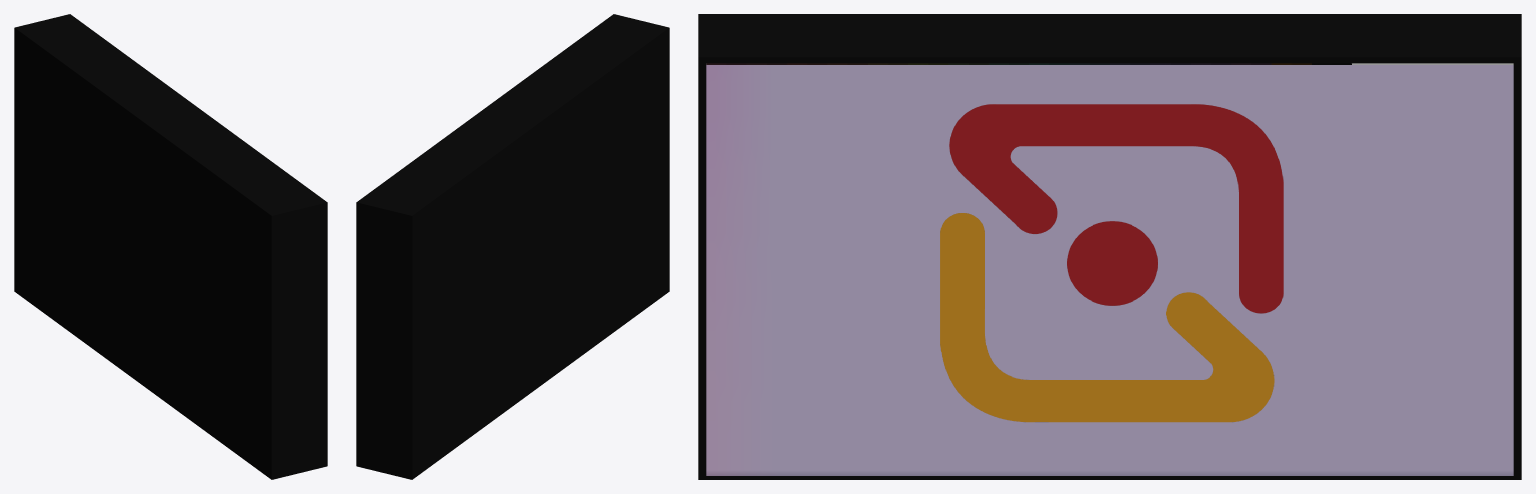
3 views of the same model, side by side, from view 1: azimuth 30°, elevation 25°; view 2: azimuth 150°, elevation 25°; view 3: azimuth 270°, elevation 25° (orthographic). The views are drawn at different scales.
Visible parts, largest first — view 1: Cube.001; view 2: Cube.001; view 3: LED.001, avo-logo.001, Cube.001.
Boxes of the visible parts, box(x1,y1,x2,y2) form: Cube.001: box(14, 14, 327, 479); Cube.001: box(356, 14, 669, 479); LED.001: box(706, 65, 1513, 475); avo-logo.001: box(940, 104, 1283, 422); Cube.001: box(698, 14, 1521, 479).
Bounding box in the file's own units: 1.04 × 4.53 × 8.
Materials: 2 (2 with a texture image).
